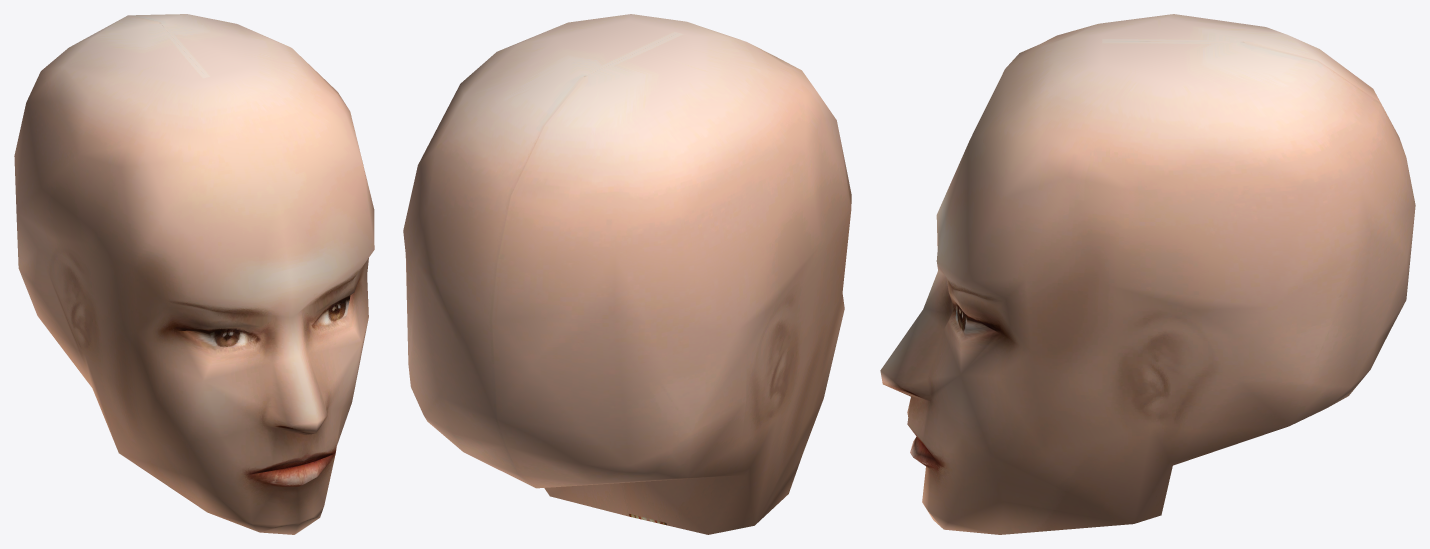
File: b_n_breton_f_head_01.glb
3 views of the same model, side by side, from view 1: azimuth 30°, elevation 25°; view 2: azimuth 150°, elevation 25°; view 3: azimuth 270°, elevation 25° (orthographic). The views are drawn at different scales.
Visible parts, largest first — view 1: Tri B_N_Breton_F_Head_01; view 2: Tri B_N_Breton_F_Head_01; view 3: Tri B_N_Breton_F_Head_01.
Part boxes in pixels (x1,y1,x2,y2): Tri B_N_Breton_F_Head_01: (14,14,374,534); Tri B_N_Breton_F_Head_01: (403,14,851,534); Tri B_N_Breton_F_Head_01: (880,14,1415,534).
Bounding box in the file's own units: 0.1001 × 0.1506 × 0.1519.
Materials: 1 (1 with a texture image).
